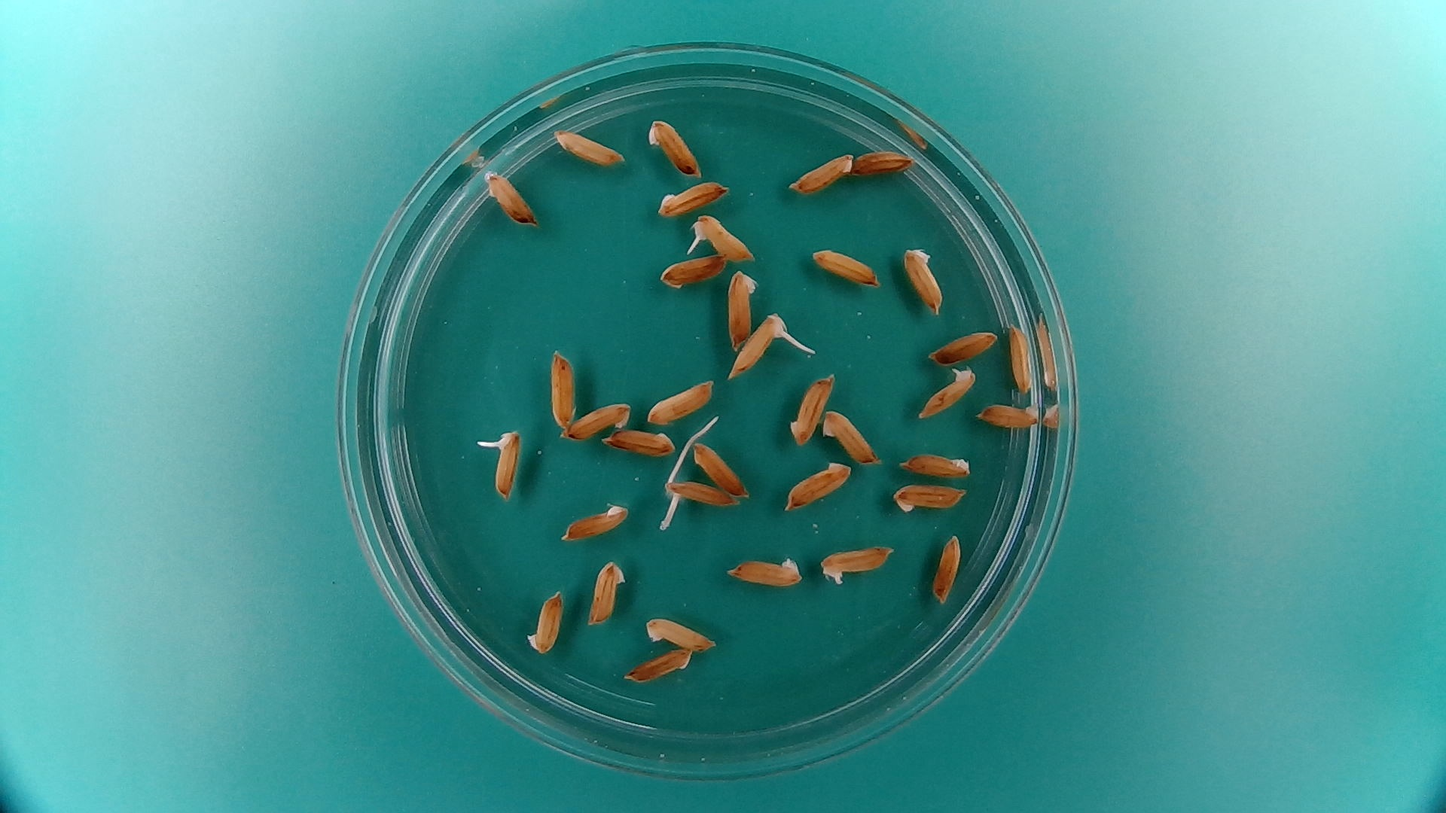no: (780, 456, 856, 513), (786, 370, 837, 449), (645, 115, 706, 178), (643, 376, 718, 426), (691, 439, 749, 500), (820, 409, 882, 465), (557, 498, 632, 544), (483, 169, 541, 227), (900, 243, 946, 316), (618, 645, 699, 686), (807, 244, 882, 288), (585, 556, 629, 630), (562, 398, 634, 443), (641, 612, 720, 653), (724, 551, 807, 590), (551, 126, 627, 168), (654, 178, 733, 218), (786, 151, 856, 196), (723, 265, 758, 354), (524, 586, 567, 658), (924, 327, 1001, 367), (656, 251, 728, 291), (889, 480, 968, 515), (894, 446, 974, 480), (601, 425, 676, 459), (930, 531, 963, 608), (1006, 318, 1038, 397), (546, 347, 575, 433), (975, 399, 1044, 434), (851, 145, 914, 175)
yes: (915, 362, 979, 422), (688, 212, 760, 263), (816, 544, 895, 586), (732, 313, 786, 373), (491, 429, 523, 497), (668, 479, 743, 507)
